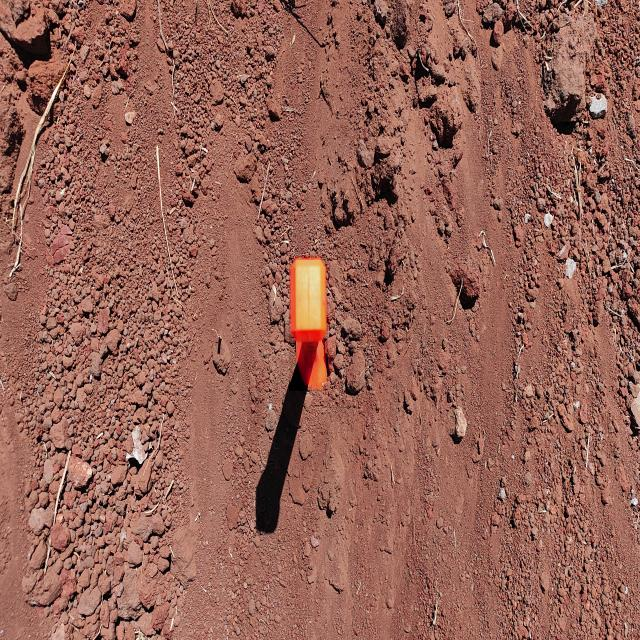Orange_hammer: (289, 255, 328, 391)
